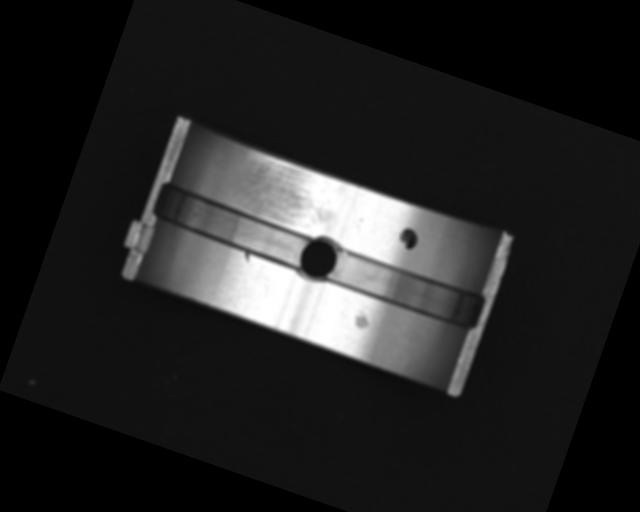blot: (395, 223, 422, 251)
bruise: (350, 309, 374, 333), (242, 251, 252, 264)
gap: (148, 180, 315, 274), (324, 243, 487, 333)
hole: (293, 230, 345, 287)
scratch: (231, 150, 347, 240)
